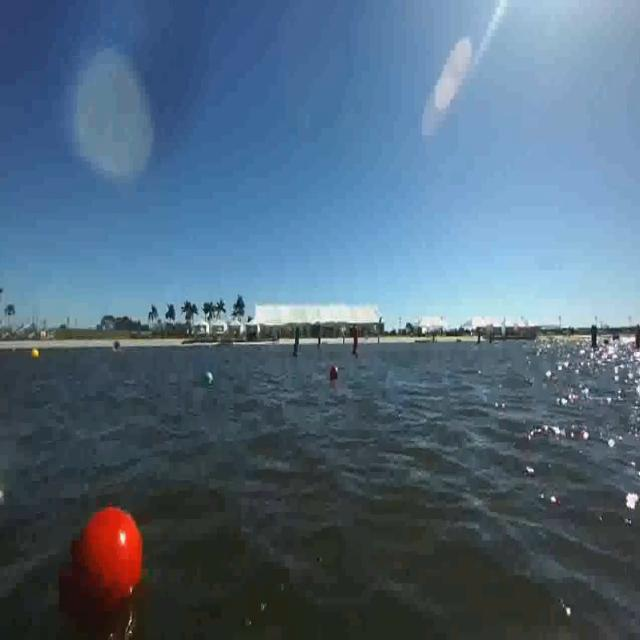green-buoy: (202, 369, 214, 386)
green-column-buoy: (290, 327, 302, 359)
red-buoy: (57, 502, 147, 612), (330, 365, 338, 378)
red-column-buoy: (352, 328, 361, 356)
yellow-buoy: (32, 346, 41, 361)
